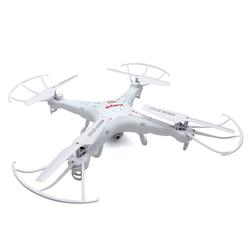drone: (7, 62, 246, 207)
